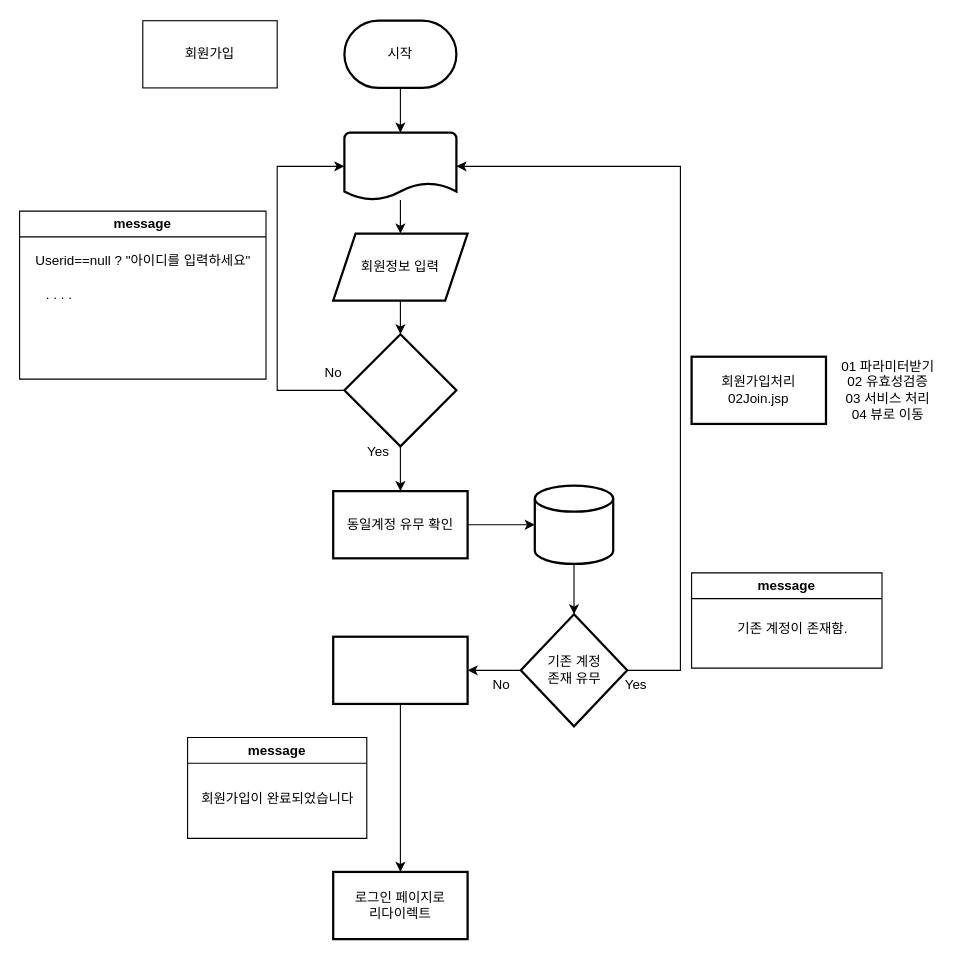
This 969x959 diagram has some shape labels left out. Here are the shapes that lost their labels. From the top down, the centre of each, then its label:
the point at 400,165: 회원가입양식표시 (01Join.html)
the point at 400,390: 유효성검증 isvalid(dto)
the point at 573,524: tbl_user
the point at 400,669: 계정정보 저장처리
